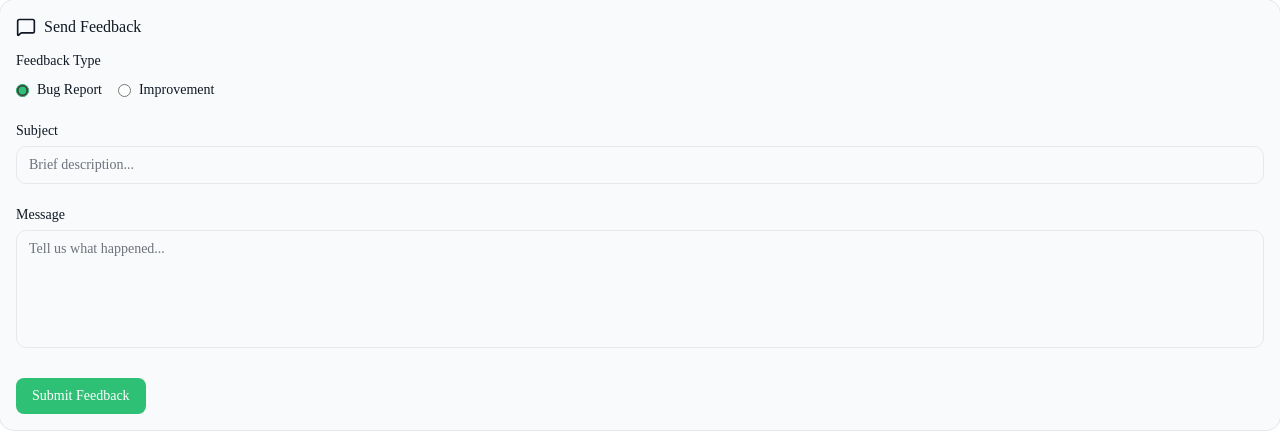
Test: FeedbackSection › allows switching feedback type
What coordinates should you click on to do the following:
click the radio button labelled "Improvement"
I would click on:
 (124, 90)
Its box is [118, 84, 131, 96].
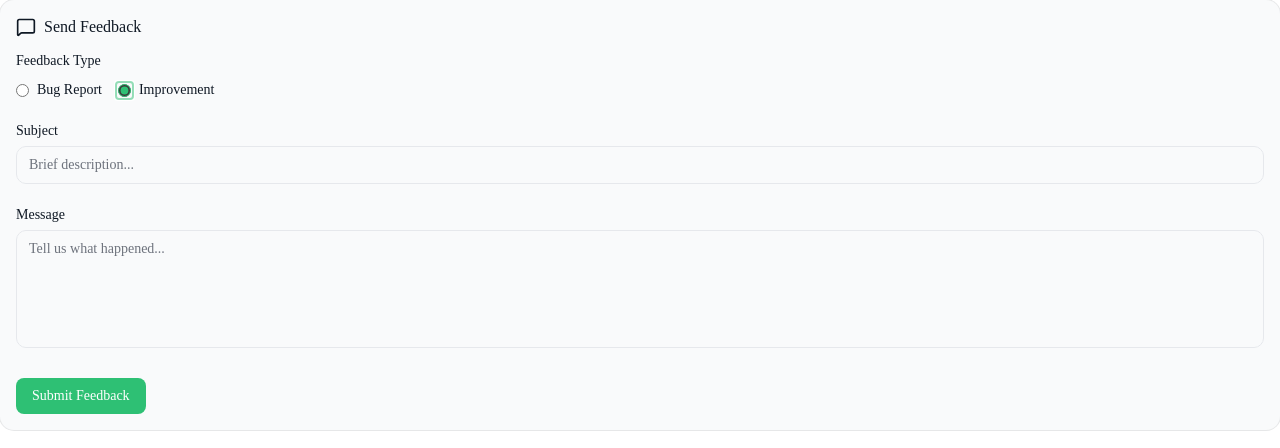
Expected: the radio button labelled "Improvement" is checked, [118, 84, 131, 96]
Expected: the radio button labelled "Bug Report" is not checked, [16, 84, 29, 96]
